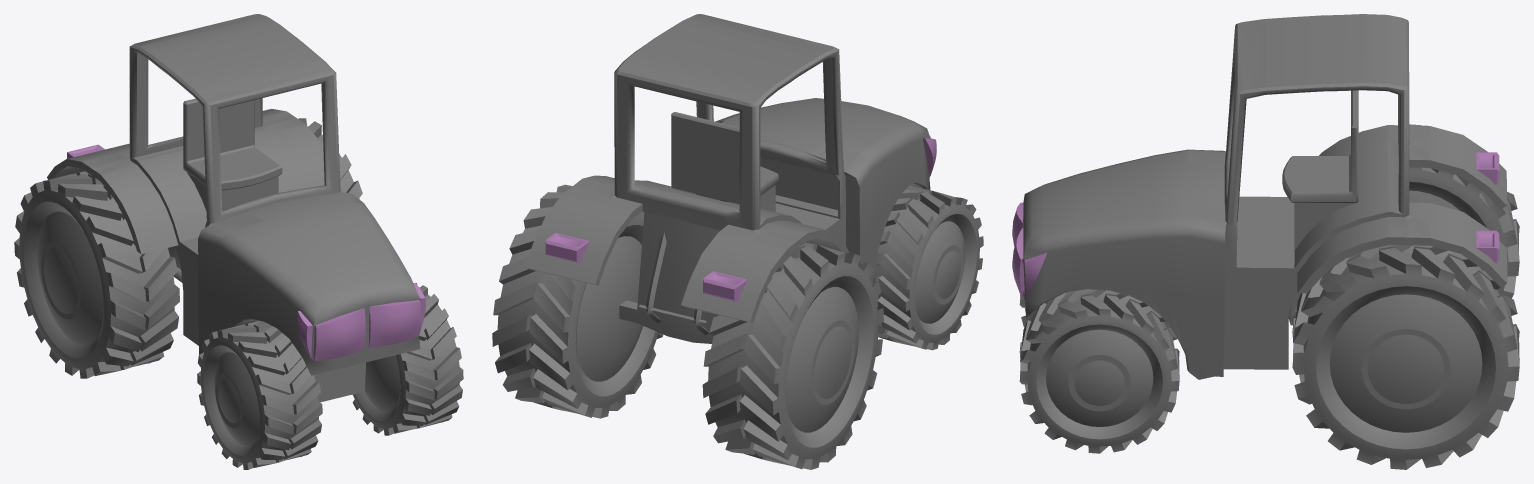
File: Tracteur.fbx
3 views of the same model, side by side, from view 1: azimuth 30°, elevation 25°; view 2: azimuth 150°, elevation 25°; view 3: azimuth 270°, elevation 25° (orthographic). The views are drawn at different scales.
Parts seen in each view (by area): view 1: Tracteur; view 2: Tracteur; view 3: Tracteur.
Part boxes in pixels (x1,y1,x2,y2): Tracteur: (14, 14, 463, 469); Tracteur: (492, 14, 983, 469); Tracteur: (1012, 14, 1519, 469).
Size of the model in its own units: 345 by 393 by 511.
